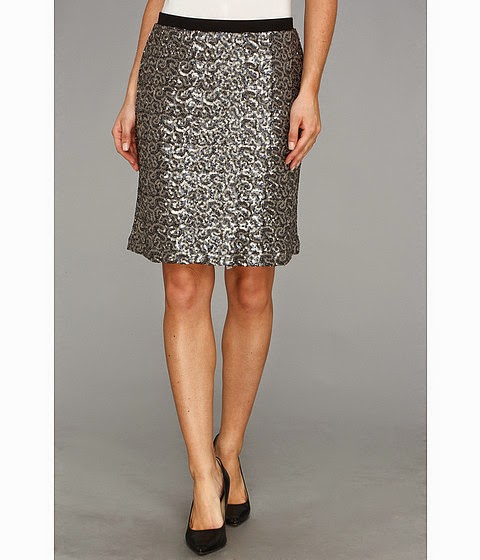C_skirt: (126, 12, 337, 283)
S_heels: (168, 423, 274, 557)
